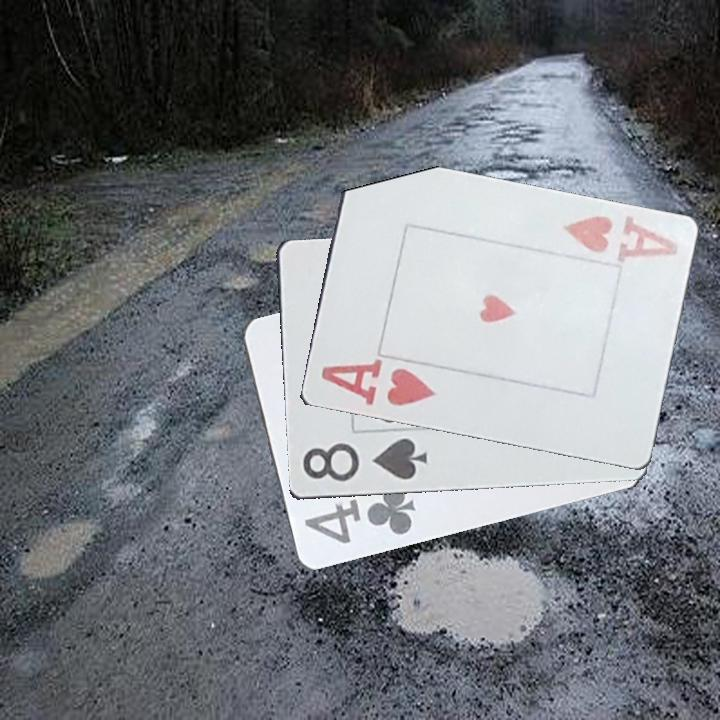4c: (300, 483, 418, 547)
8s: (298, 435, 430, 485)
Ah: (317, 355, 438, 410), (558, 212, 681, 266)
